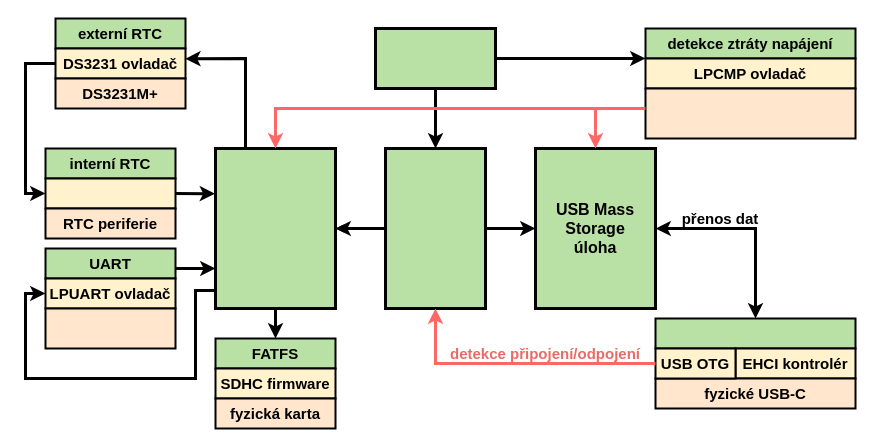
The diagram is 874 pixels wide and 446 high, and some of its shapes have lost their labels. Here are the shapes that lost their labels. From the top down, the centre of each, then its label:
the point at 435,58: inicializace
the point at 750,113: nízko-výkonový komparátor (LPCMP)
the point at 110,193: IRTC ovladač
the point at 275,228: záznamová úloha
the point at 435,228: semafory pro přepínání úloh
the point at 110,328: LP_FLEXCOMM periferie
the point at 755,333: USB software
